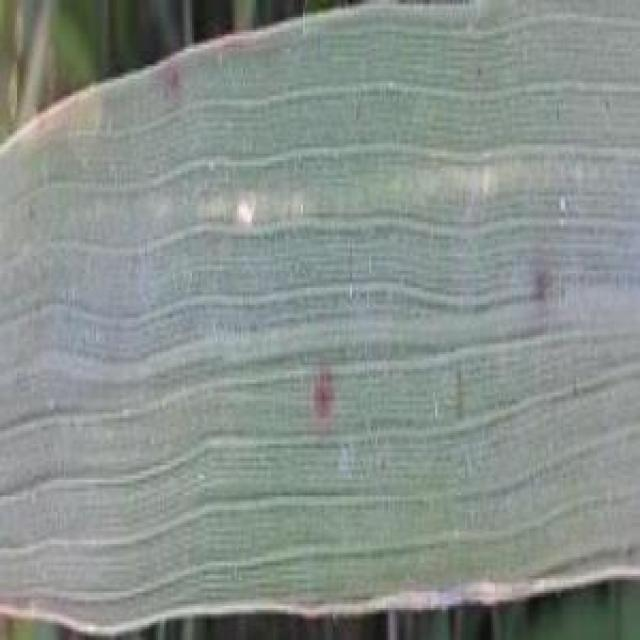brownspots: (301, 372, 352, 424), (522, 264, 564, 308)
